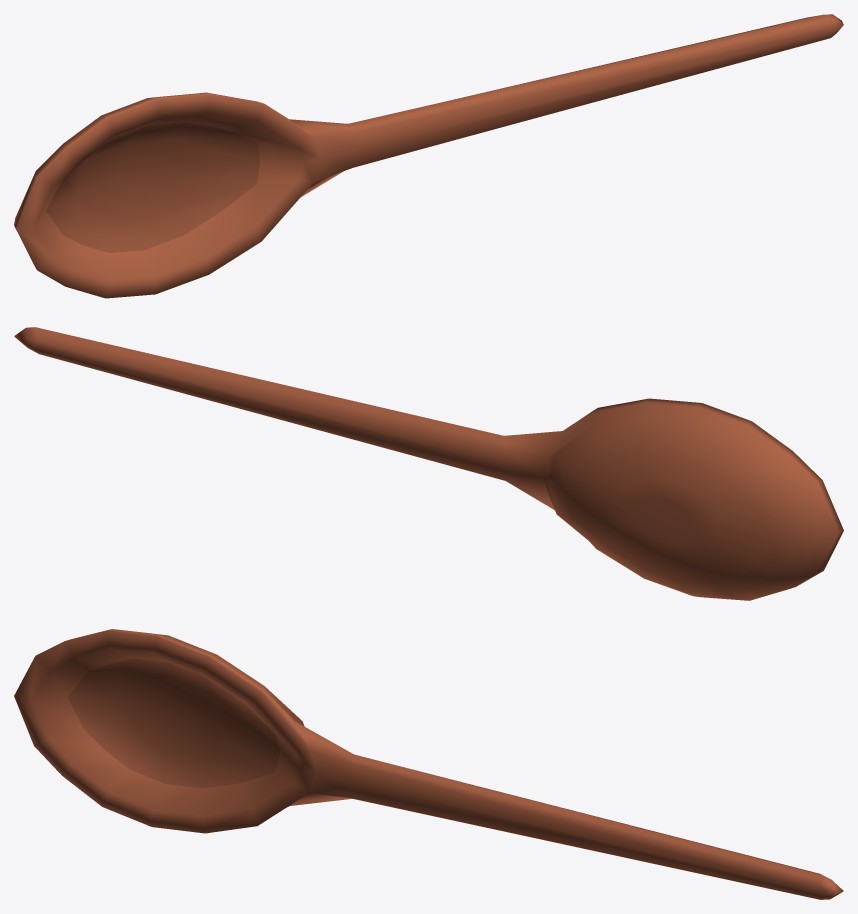
File: spoon_coloured.fbx
3 views of the same model, one above another, from view 1: azimuth 30°, elevation 25°; view 2: azimuth 150°, elevation 25°; view 3: azimuth 330°, elevation 25° (orthographic).
Visible parts, largest first — view 1: spoon; view 2: spoon; view 3: spoon.
Part boxes in pixels (bbox=[...]): spoon: bbox=[14, 14, 843, 298]; spoon: bbox=[14, 327, 843, 600]; spoon: bbox=[14, 629, 843, 899].
Bounding box in the file's own units: 185 × 41.19 × 12.84.
